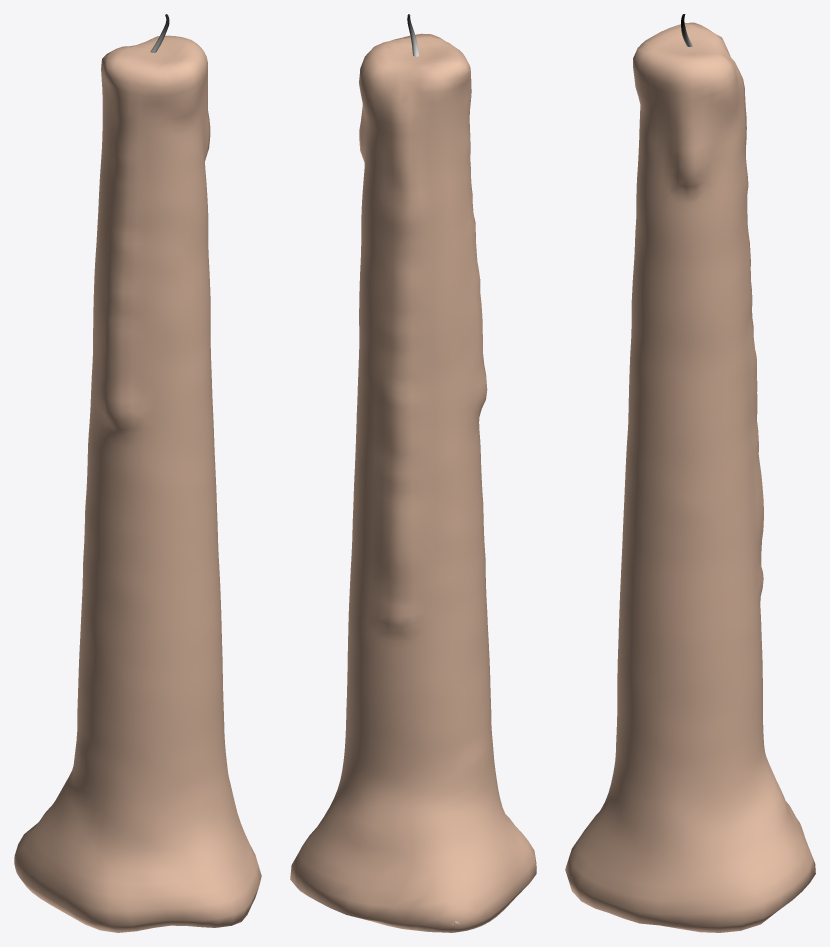
3 views of the same model, side by side, from view 1: azimuth 30°, elevation 25°; view 2: azimuth 150°, elevation 25°; view 3: azimuth 270°, elevation 25° (orthographic).
Visible parts, largest first — view 1: Candle4kFaces; view 2: Candle4kFaces; view 3: Candle4kFaces.
Boxes of the visible parts, x1,y1,x2,y2 form: Candle4kFaces: (14, 35, 261, 932); Candle4kFaces: (290, 33, 536, 932); Candle4kFaces: (565, 22, 815, 932).
Bounding box in the file's own units: 2.14 × 8.97 × 2.31.
Materials: 2 (1 with a texture image).
